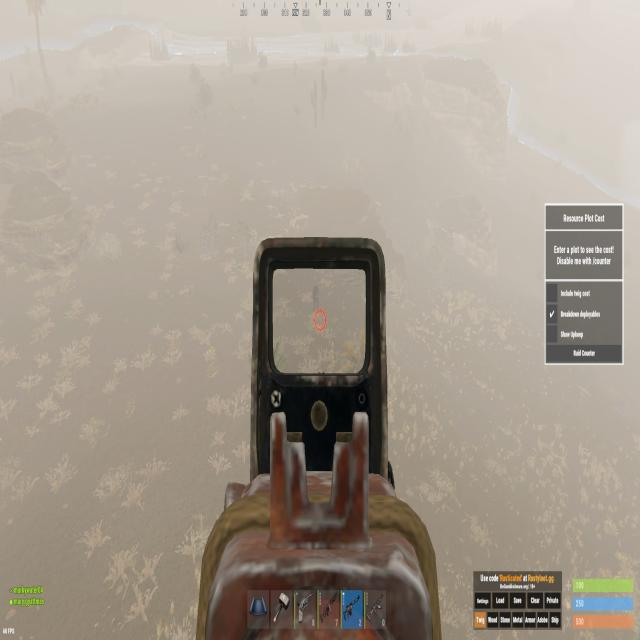Player: (311, 282, 320, 316)
